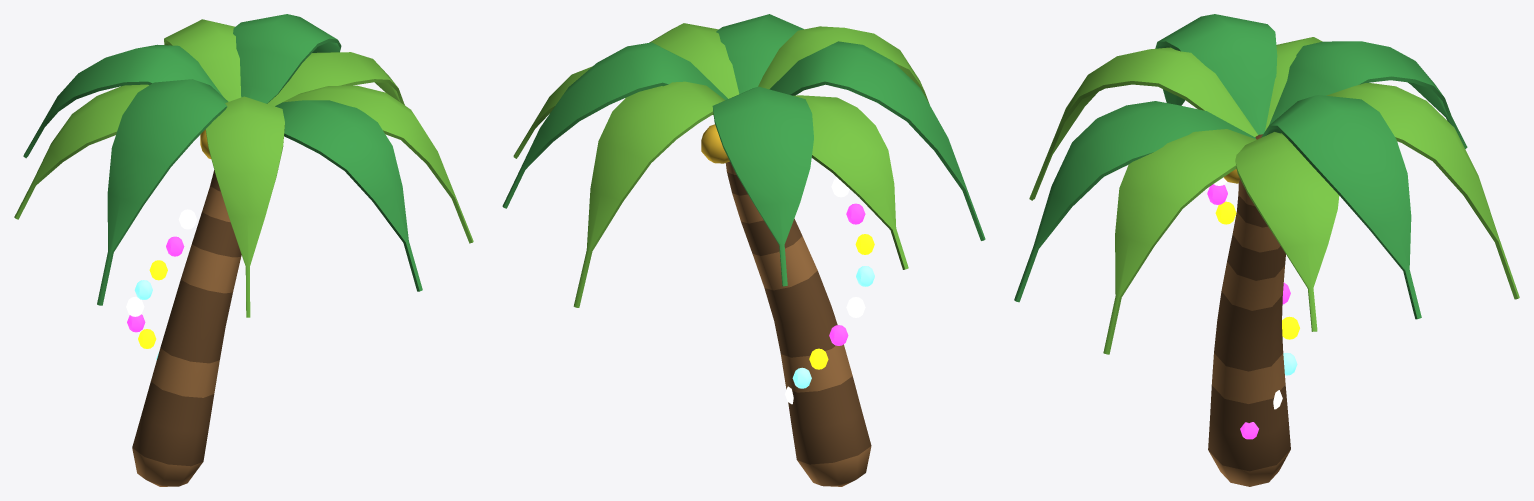
The model's file is W6_Palm_C.fbx.
The picture shows the model from 3 angles, left to right: view 1: azimuth 30°, elevation 25°; view 2: azimuth 150°, elevation 25°; view 3: azimuth 270°, elevation 25°; orthographic projection. The views are drawn at different scales.
Visible parts, largest first — view 1: W6_Palm_C; view 2: W6_Palm_C; view 3: W6_Palm_C.
Part boxes in pixels (left/top/right/bottom): W6_Palm_C: left=14, top=14, right=473, bottom=486; W6_Palm_C: left=502, top=14, right=985, bottom=486; W6_Palm_C: left=1014, top=14, right=1519, bottom=486.
Bounding box in the file's own units: 3.89 × 3.9 × 3.84.
